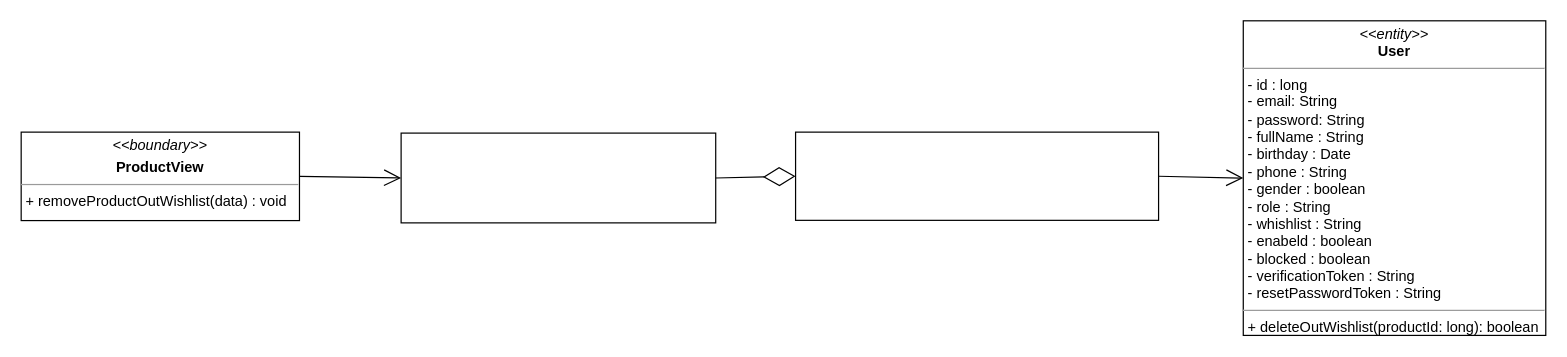
The diagram is 1567 pixels wide and 357 high, and some of its shapes have lost their labels. The centre of each missing label's shape, as x and y in pixels:
<<controller>> ProductController + removeOutWishlist(productId : long) : boolean: (558,177)
<<service>> UserService + removeProductOutWishlist(productId: long) : boolean: (976,175)
